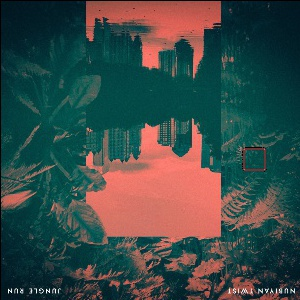square: (239, 145, 269, 175)
